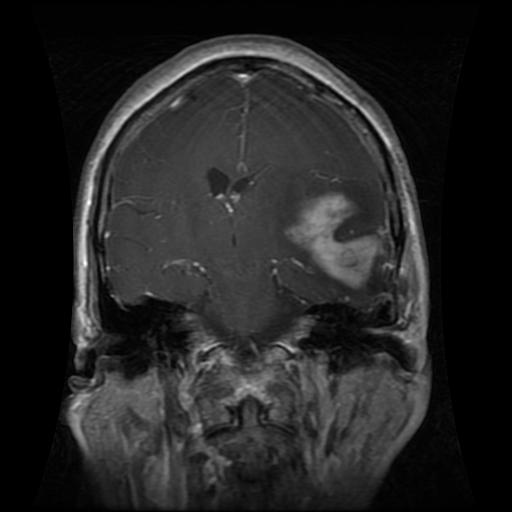Gliomia_tumour: (279, 178, 391, 296)
